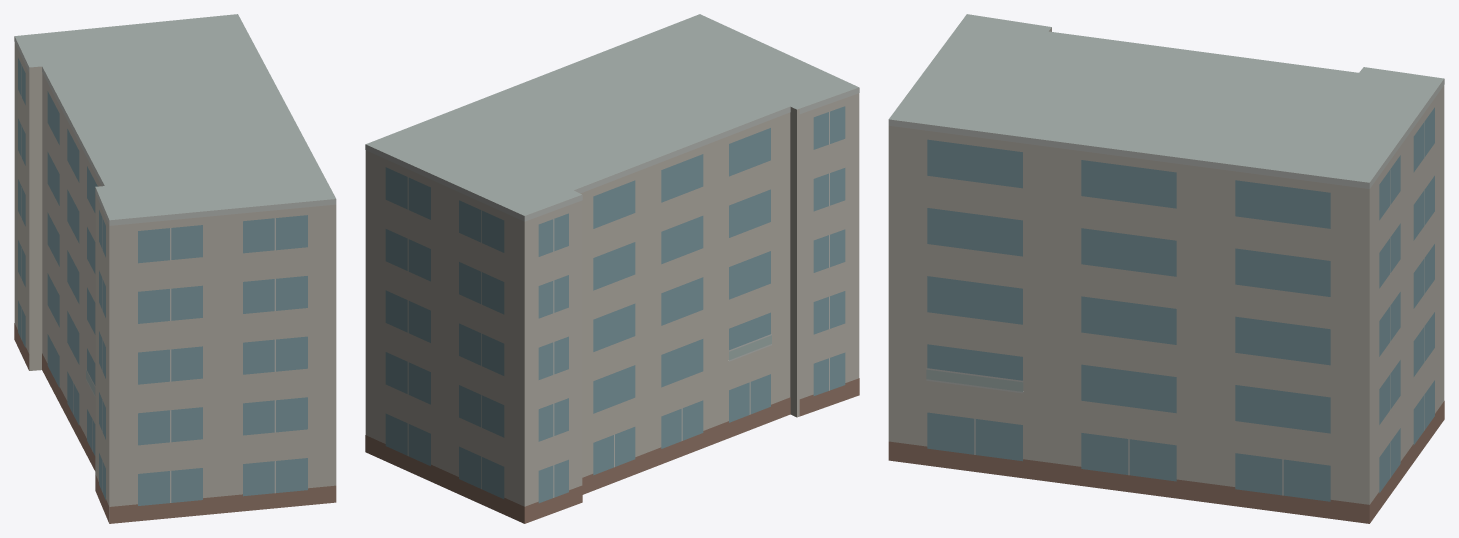
Rendered from survey-upis-32850265.glb.
3 views of the same model, side by side, from view 1: azimuth 30°, elevation 25°; view 2: azimuth 150°, elevation 25°; view 3: azimuth 270°, elevation 25° (orthographic). The views are drawn at different scales.
Parts seen in each view (by area): view 1: survey-upis-32850265.tmp; view 2: survey-upis-32850265.tmp; view 3: survey-upis-32850265.tmp.
Part boxes in pixels (box(x1,y1,x2,y2)): survey-upis-32850265.tmp: box(14, 14, 336, 523); survey-upis-32850265.tmp: box(365, 14, 859, 523); survey-upis-32850265.tmp: box(888, 14, 1444, 523).
Size of the model in its own units: 13.96 by 13.15 by 19.43.
